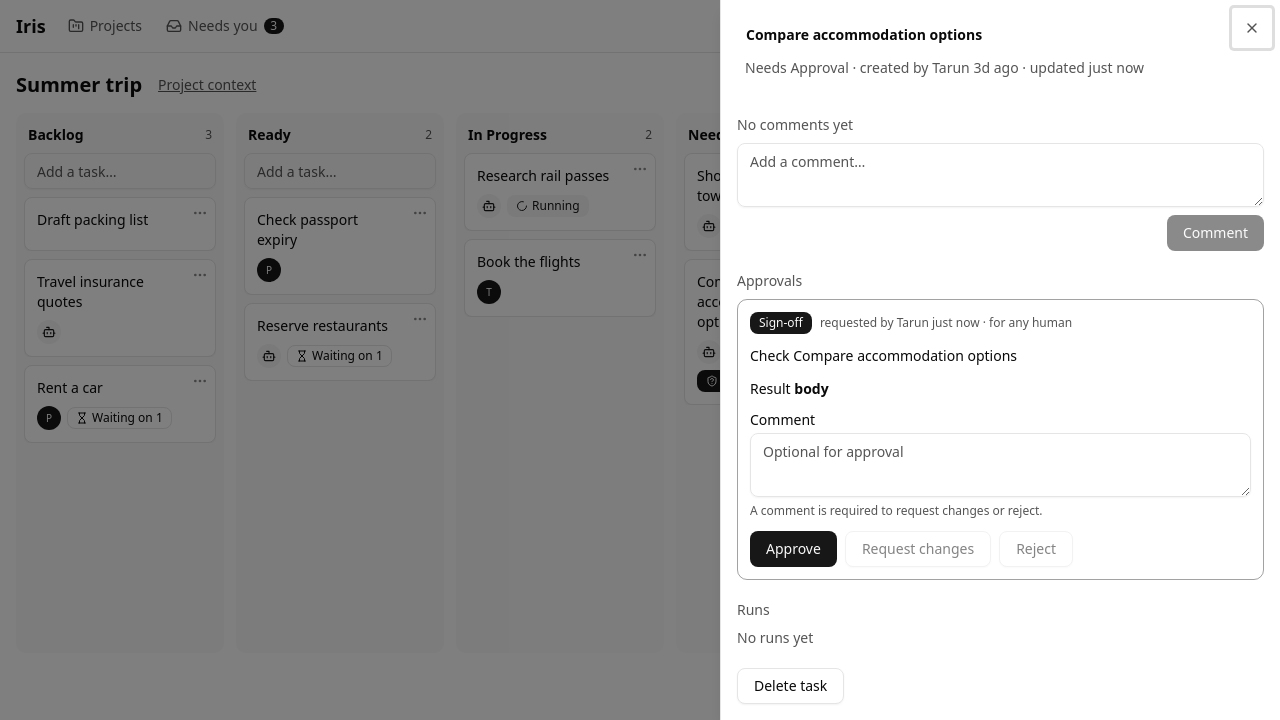
approval decisions in the drawer › sign_off + Reject moves the card to rejected
(page scrolled)
Expected: the element with test id "pending-approval" is shown, [737,299,1264,580]
Expected: the element named "Backlog" is shown, [16,113,224,653]
In the text box labelled "Comment": [1000, 465] box [750,433,1251,497], type "Because reasons"
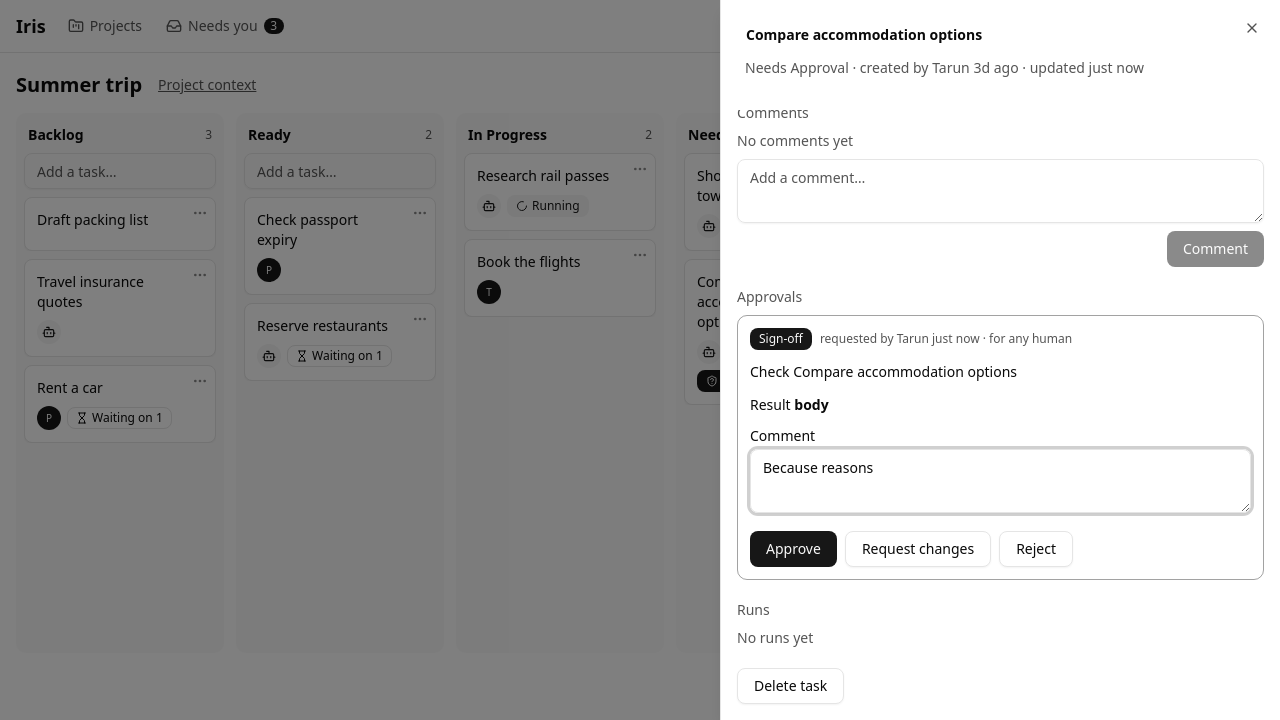
Click the button "Reject": [1036, 549] box [999,531,1073,567]
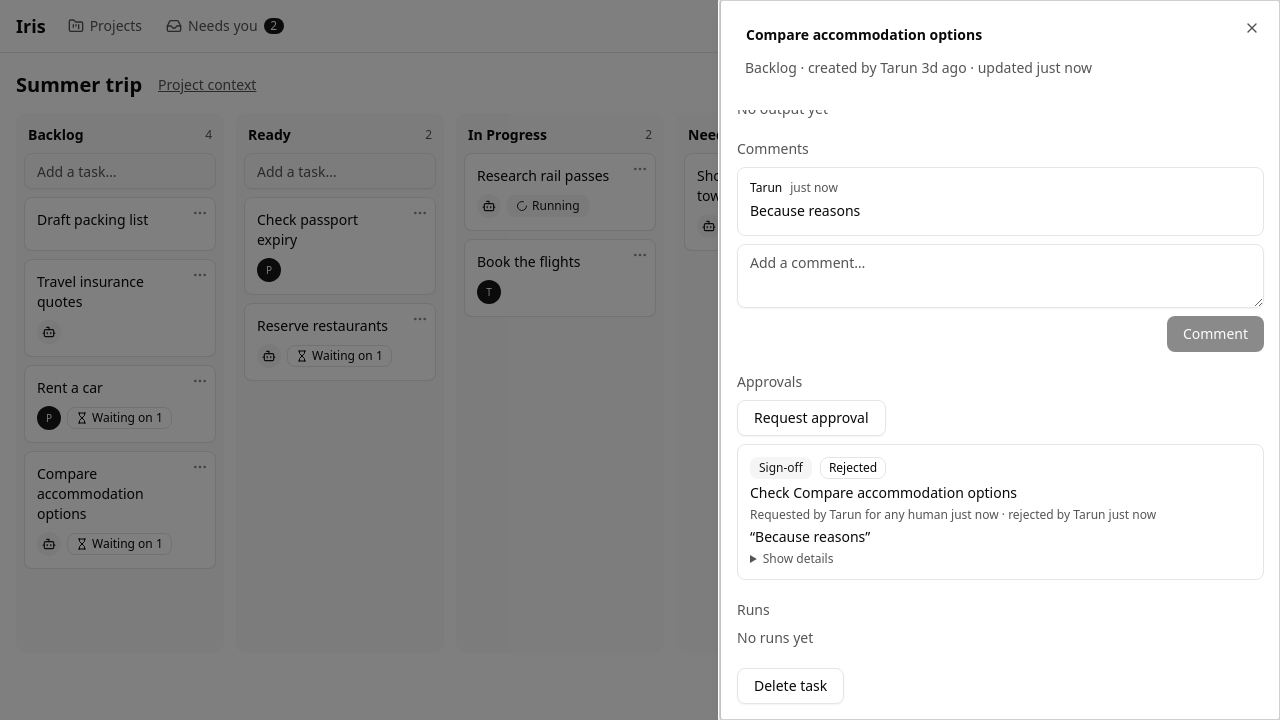
Expected: the text "Compare accommodation options" is shown, [37,464,144,523]
Expected: the element with test id "pending-approval" is gone
Expected: the text "“Because reasons”" is shown, [750,527,870,546]
